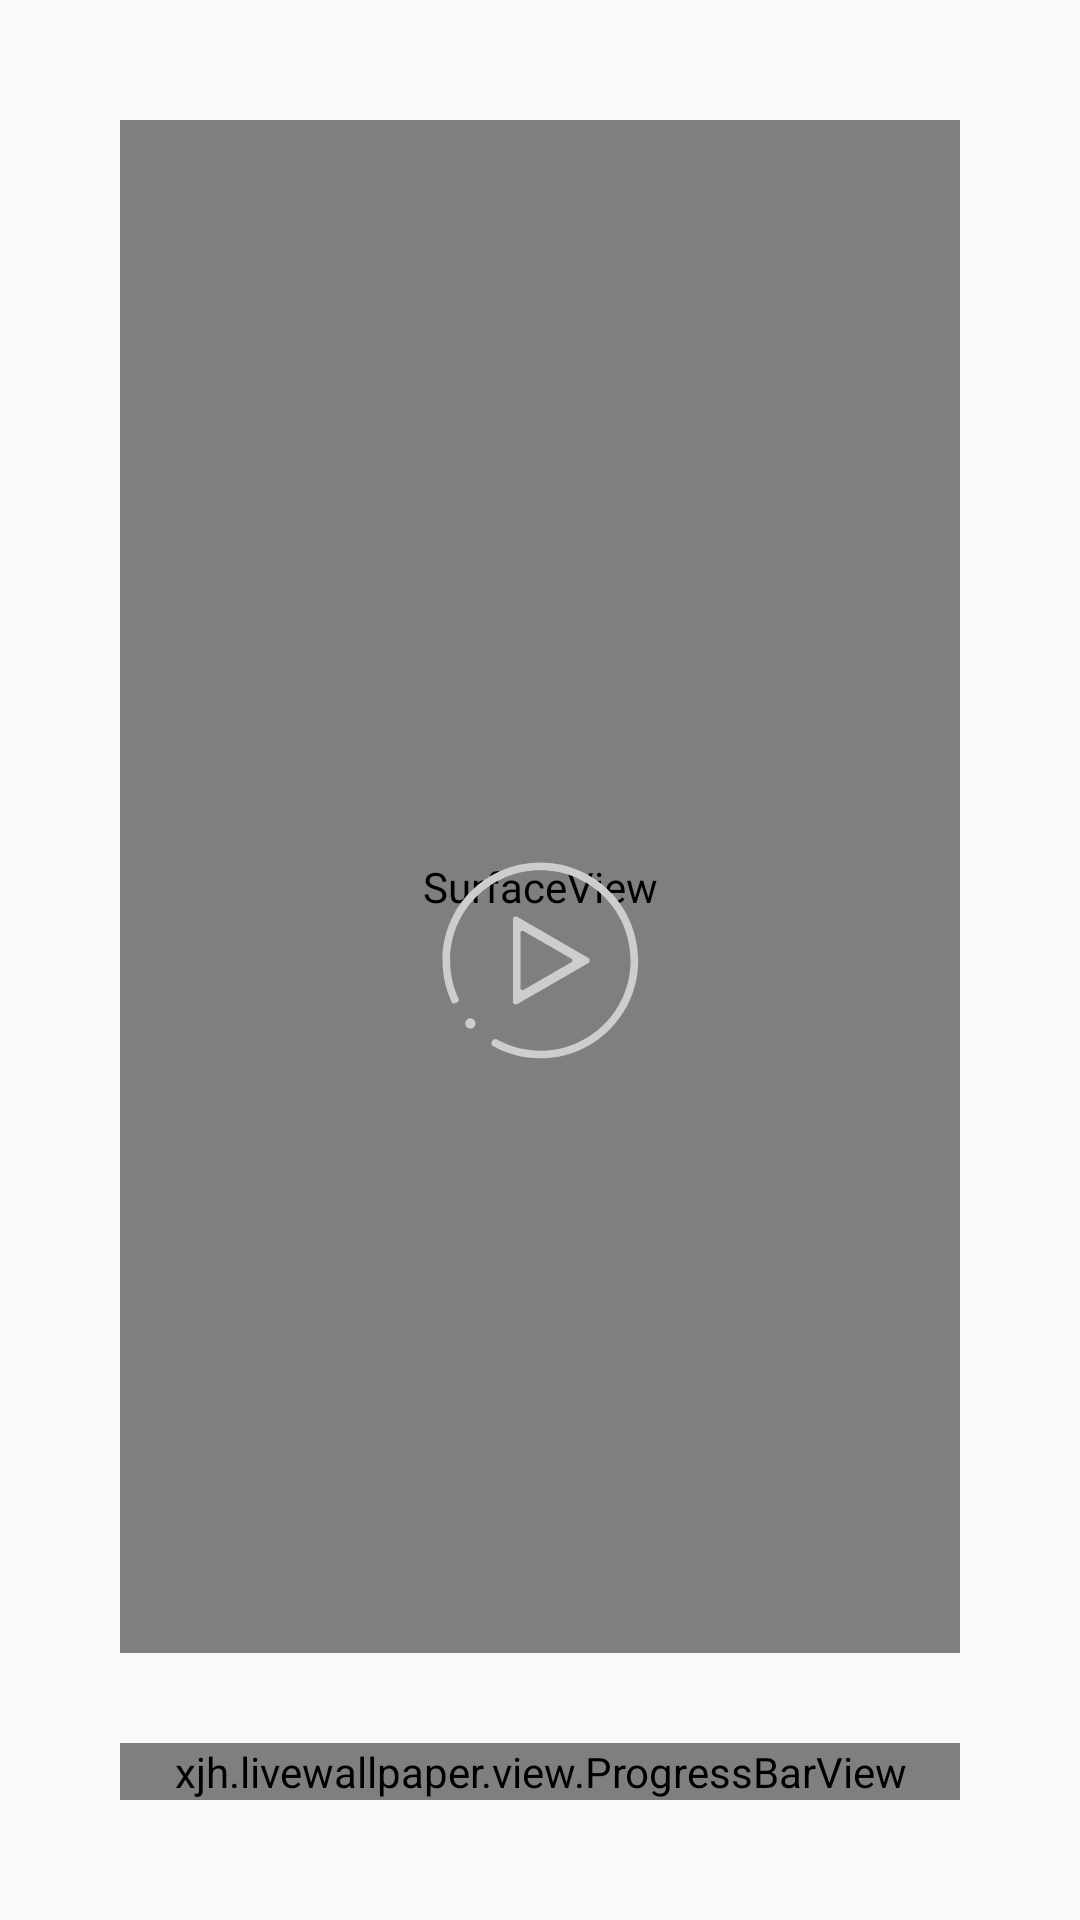

Where icons sit on this 1080w x 1920h app screen, as box=[x1, y1, x2, y2]:
play: box=[442, 862, 638, 1058]
